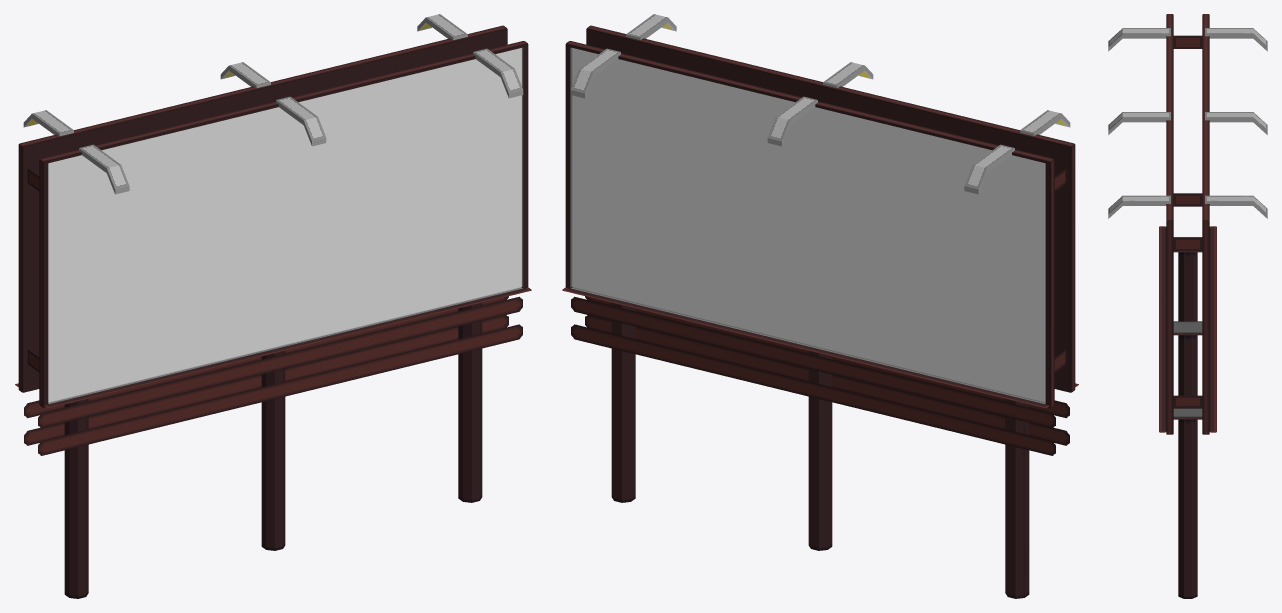
Rendered from billboard.fbx.
3 views of the same model, side by side, from view 1: azimuth 30°, elevation 25°; view 2: azimuth 150°, elevation 25°; view 3: azimuth 270°, elevation 25° (orthographic). The views are drawn at different scales.
Visible parts, largest first — view 1: main billboard, front support, main support, back support, Lights front, front plate, lights back; view 2: main billboard, back support, main support, front support, lights back, back plate, Lights front; view 3: main billboard, main support, lights back, Lights front, front plate, back plate, middle support.
Boxes of the visible parts, box(x1,y1,x2,y2) form: main billboard: box(18, 25, 528, 407); front support: box(38, 296, 522, 455); main support: box(64, 303, 482, 598); back support: box(24, 296, 508, 445); Lights front: box(79, 48, 523, 194); front plate: box(44, 287, 531, 408); lights back: box(23, 14, 467, 136); main billboard: box(565, 25, 1075, 407); back support: box(571, 296, 1055, 455); main support: box(611, 303, 1029, 598); front support: box(585, 296, 1069, 445); lights back: box(570, 48, 1014, 194); back plate: box(562, 287, 1049, 408); Lights front: box(626, 14, 1070, 136); main billboard: box(1166, 14, 1209, 434); main support: box(1178, 252, 1197, 598); lights back: box(1205, 28, 1267, 218); Lights front: box(1108, 28, 1170, 218); front plate: box(1159, 226, 1166, 432); back plate: box(1209, 226, 1216, 432); middle support: box(1173, 35, 1202, 408).
Bounding box in the file's own units: 1262 × 1131 × 413.
7 materials, 7 textured.
